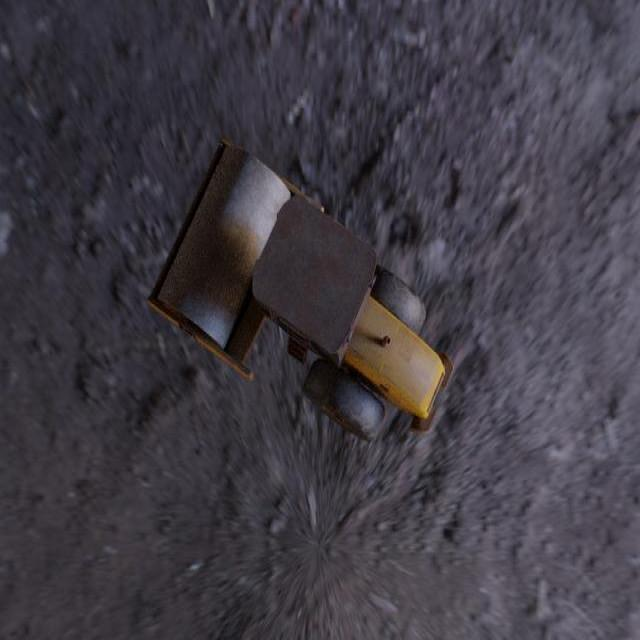Roller: (146, 133, 454, 443)
